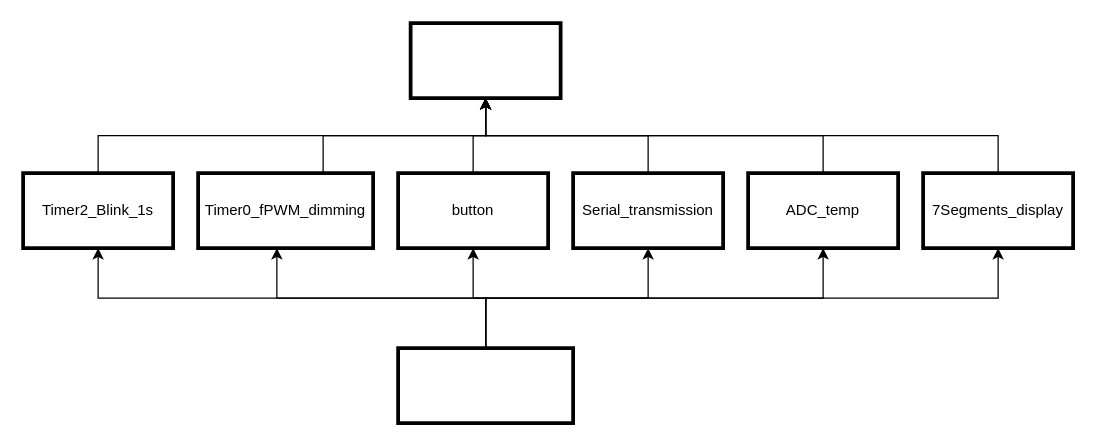
This 1096x446 diagram has some shape labels left out. Here are the shapes that lost their labels. From the top down, the centre of each, then its label:
At (485,60): "Main".
At (485,385): "GeneralDefines".
